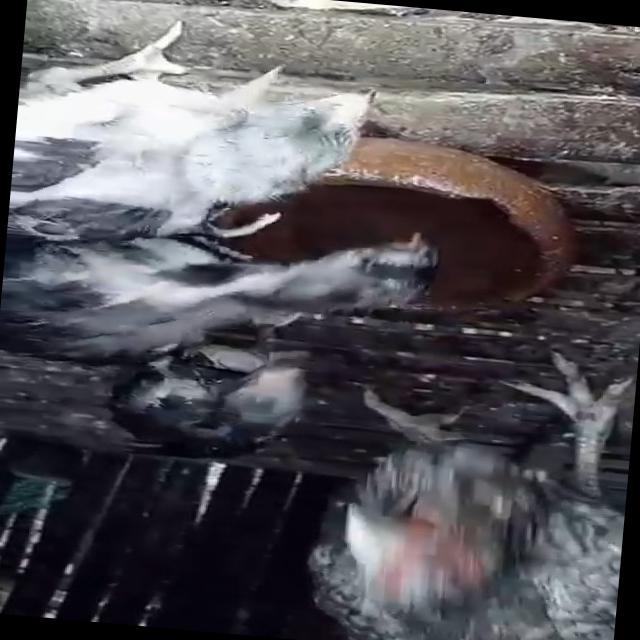drinking: (0, 158, 480, 392)
